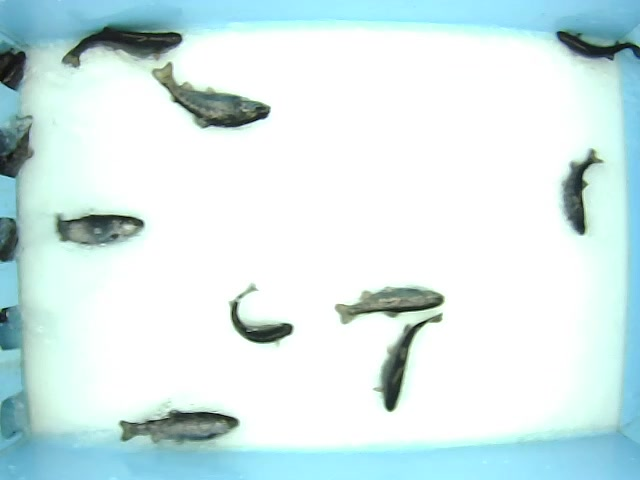fish: (147, 60, 286, 134), (371, 313, 451, 424), (118, 395, 245, 447), (52, 27, 196, 68), (214, 276, 300, 344), (556, 152, 610, 249), (318, 283, 457, 313), (57, 213, 150, 247), (557, 29, 640, 63)
